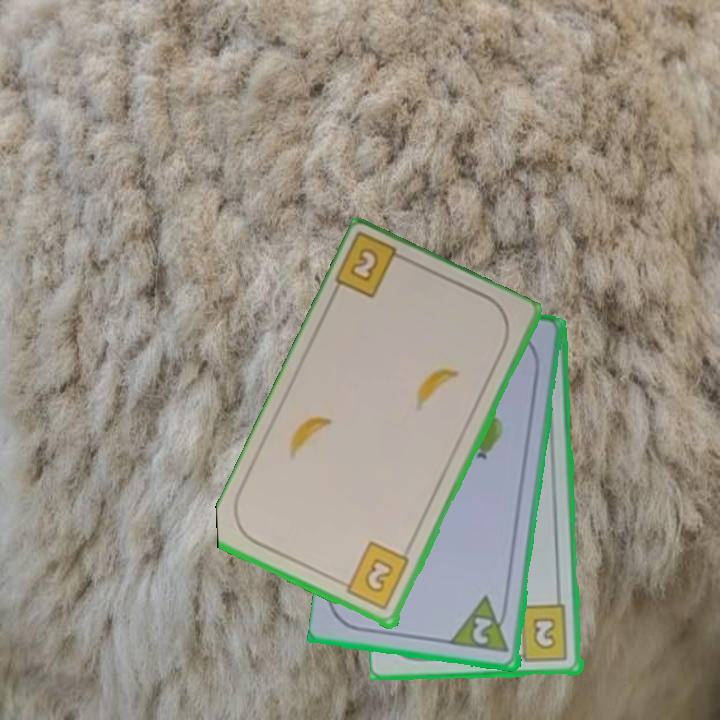2b: (335, 539, 413, 613), (332, 232, 414, 302), (510, 602, 571, 665)
2p: (469, 614, 495, 648)
